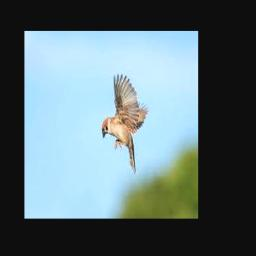Sparrow: (101, 74, 148, 174)
